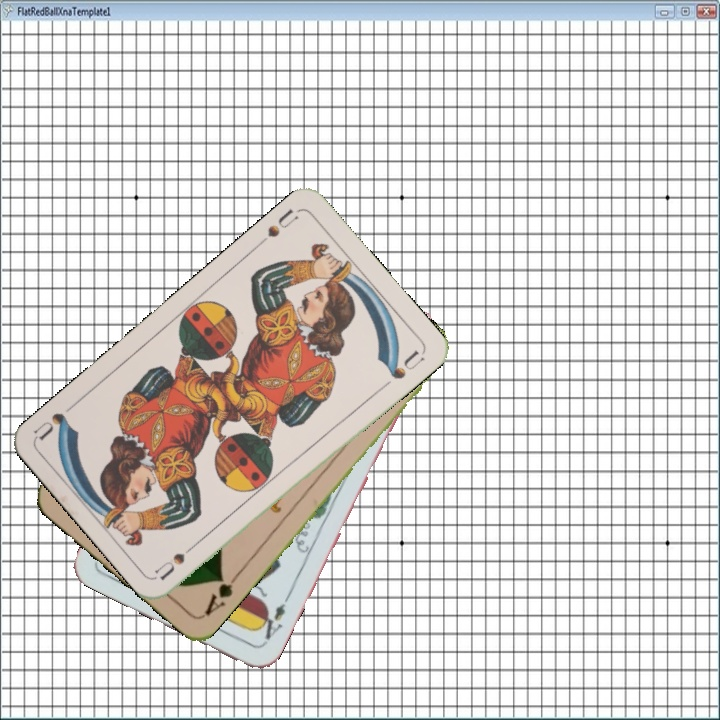EA: (253, 593, 292, 648)
GA: (200, 569, 242, 619)
SU: (151, 536, 203, 583), (263, 204, 301, 241)
